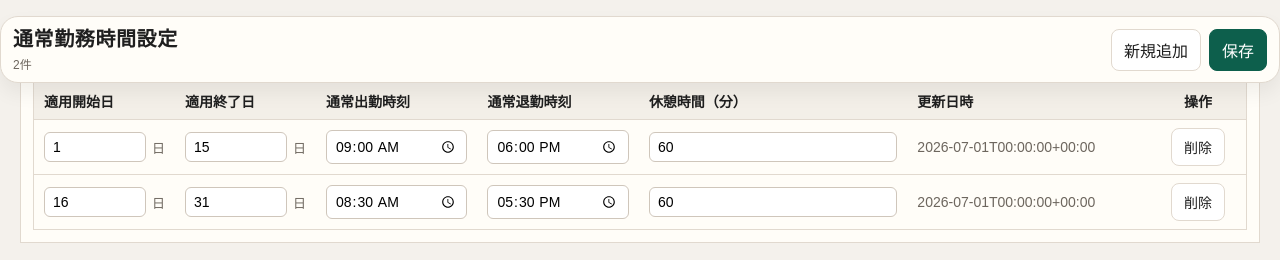
Test: 通常勤務時間設定画面 › 保存成功メッセージを表示する
Expected: the number field named "1行目 適用開始日" is shown, [44,132,146,162]
Click the button "保存" at (1238, 50), box [1209,28,1267,70]
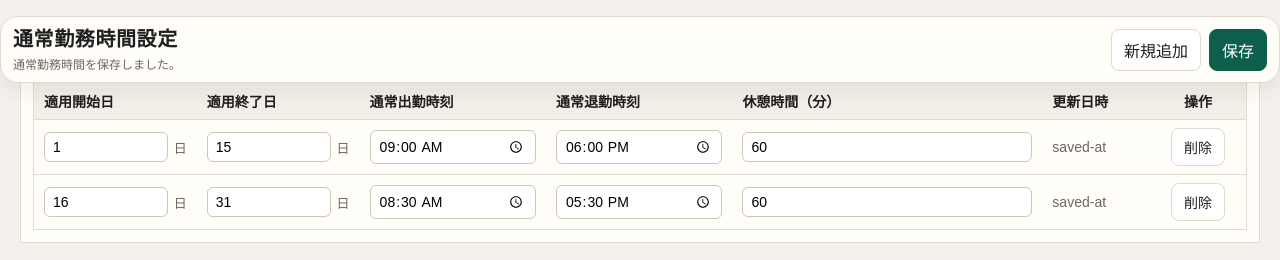
Expected: the text "通常勤務時間を保存しました。" is shown, [13,55,181,72]
